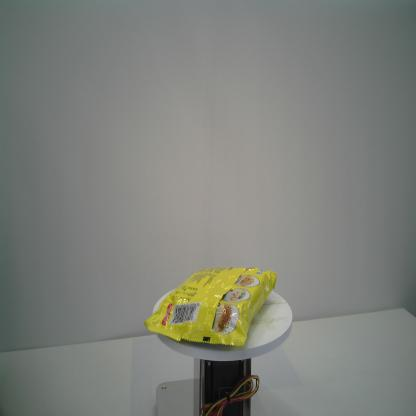Instant Noodles: (144, 264, 277, 348)
